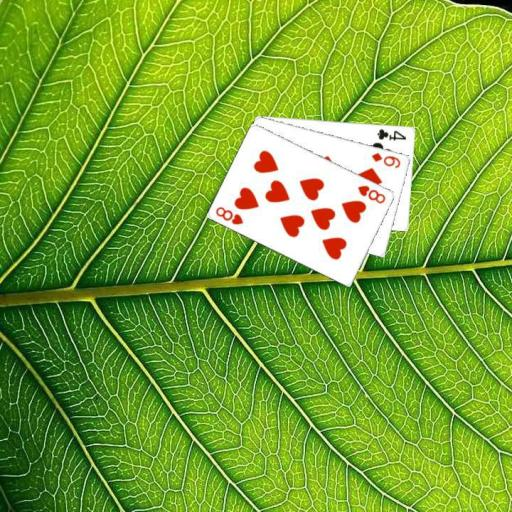4C: (374, 126, 408, 141)
6D: (369, 150, 403, 170)
8H: (355, 182, 387, 205), (213, 204, 245, 227)
